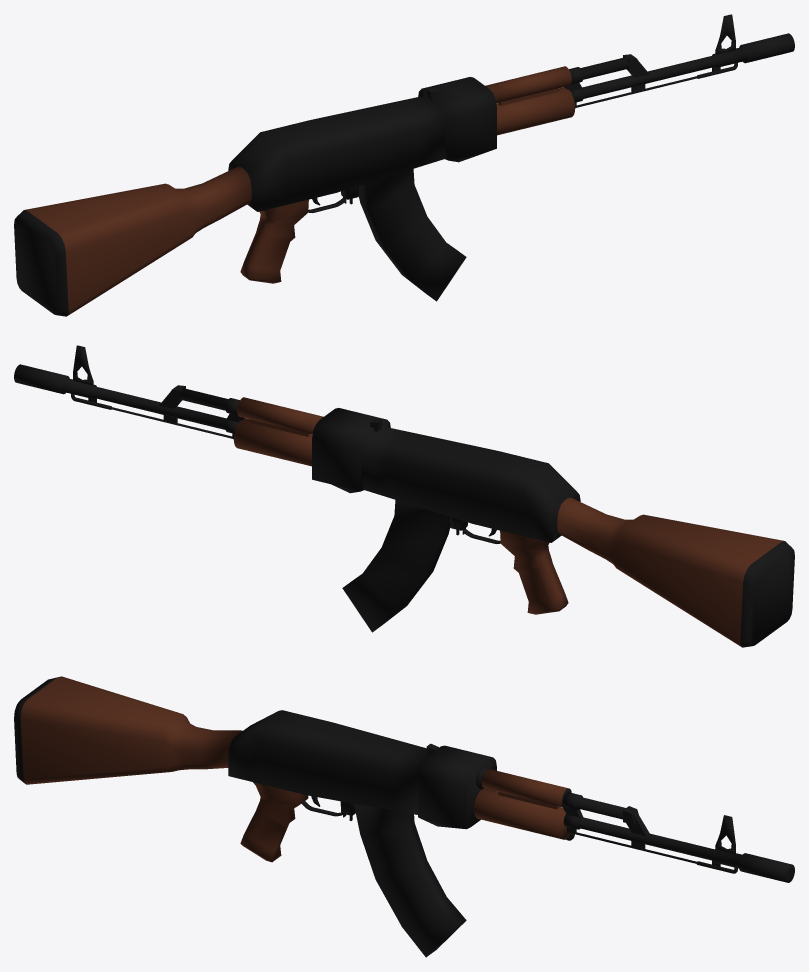
Rendered from ak47_basic_textures.glb.
The picture shows the model from 3 angles, top to bottom: view 1: azimuth 30°, elevation 25°; view 2: azimuth 150°, elevation 25°; view 3: azimuth 330°, elevation 25°; orthographic projection.
Visible parts, largest first — view 1: Cube; view 2: Cube; view 3: Cube.
Boxes of the visible parts, left/top/right/bottom form: Cube: left=14, top=14, right=794, bottom=316; Cube: left=14, top=345, right=794, bottom=647; Cube: left=14, top=676, right=794, bottom=957.
Size of the model in its own units: 4.72 by 1.25 by 0.4873.
